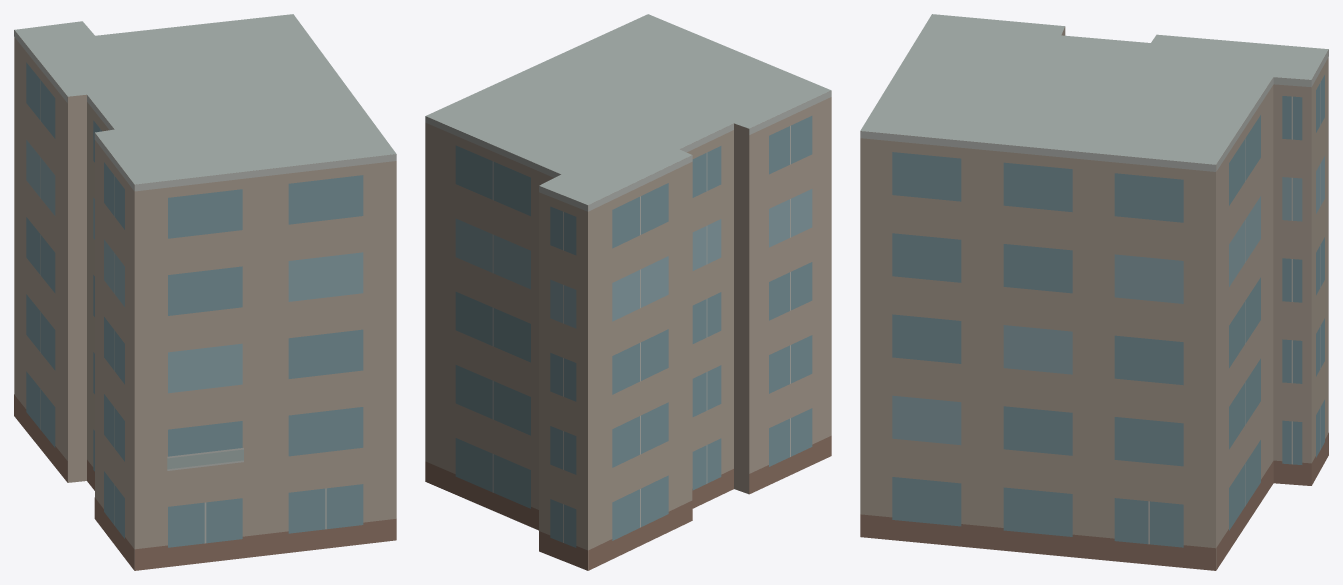
File: survey-upis-32996993.glb
The picture shows the model from 3 angles, left to right: view 1: azimuth 30°, elevation 25°; view 2: azimuth 150°, elevation 25°; view 3: azimuth 270°, elevation 25°; orthographic projection. The views are drawn at different scales.
Parts seen in each view (by area): view 1: survey-upis-32996993.tmp; view 2: survey-upis-32996993.tmp; view 3: survey-upis-32996993.tmp.
Part boxes in pixels (x1,y1,x2,y2): survey-upis-32996993.tmp: (14,14,396,570); survey-upis-32996993.tmp: (425,14,831,570); survey-upis-32996993.tmp: (860,14,1328,570).
Size of the model in its own units: 10.92 by 13.7 by 14.34.
